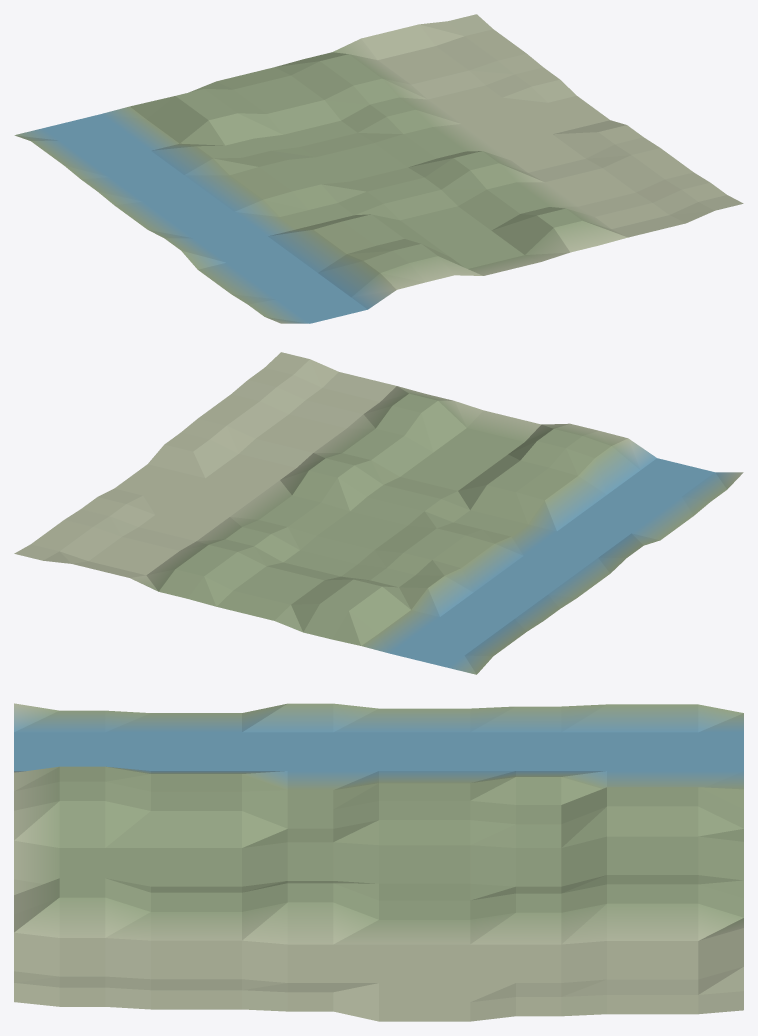
The picture shows the model from 3 angles, top to bottom: view 1: azimuth 30°, elevation 25°; view 2: azimuth 150°, elevation 25°; view 3: azimuth 270°, elevation 25°; orthographic projection. The views are drawn at different scales.
Size of the model in its own units: 32 by 1.34 by 32.
